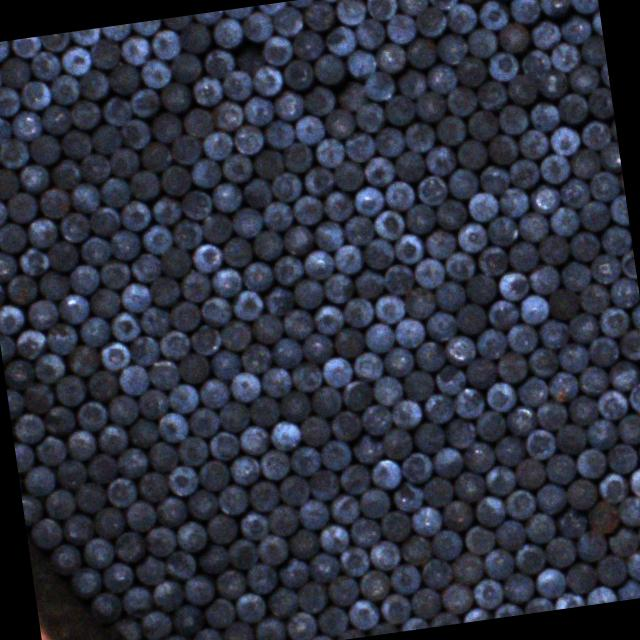tool: (34, 184, 72, 222), (19, 462, 58, 499), (294, 577, 331, 615), (266, 416, 303, 454), (147, 108, 185, 145), (116, 31, 154, 68), (310, 51, 348, 88), (46, 540, 82, 579), (25, 132, 64, 168), (270, 85, 306, 124), (96, 255, 133, 292), (525, 96, 562, 133), (87, 588, 123, 626), (470, 492, 508, 528), (348, 428, 384, 466), (187, 320, 223, 358), (2, 272, 40, 308), (36, 266, 72, 304), (108, 226, 144, 264), (208, 179, 246, 215), (320, 187, 356, 225), (463, 106, 501, 142), (605, 522, 640, 561), (67, 564, 104, 600), (27, 516, 64, 552), (499, 568, 536, 604), (562, 558, 599, 594), (448, 550, 485, 586), (572, 528, 609, 564), (553, 502, 590, 538), (603, 439, 640, 475), (228, 451, 264, 488), (94, 419, 130, 456), (83, 368, 120, 404), (260, 282, 297, 318), (567, 226, 604, 262), (421, 224, 458, 260), (46, 155, 82, 192), (402, 200, 438, 237), (401, 364, 436, 402), (88, 120, 123, 158), (250, 62, 285, 100), (494, 20, 532, 55), (215, 480, 251, 516), (232, 590, 268, 626), (530, 564, 566, 600), (492, 517, 528, 553), (523, 510, 559, 546), (296, 496, 332, 532), (32, 432, 68, 468), (240, 258, 276, 294), (546, 367, 582, 403), (494, 349, 530, 385), (380, 344, 416, 380), (280, 222, 316, 258), (46, 238, 82, 274), (56, 210, 92, 246), (3, 190, 39, 226), (68, 180, 104, 216), (98, 174, 134, 210), (280, 139, 316, 175), (168, 132, 204, 168), (8, 108, 44, 144), (260, 32, 296, 68), (210, 14, 246, 50), (465, 189, 501, 225), (497, 184, 533, 220), (414, 172, 450, 208), (444, 164, 480, 200), (360, 153, 396, 189), (422, 142, 458, 178), (578, 117, 614, 153), (402, 119, 438, 155), (412, 88, 448, 124), (534, 66, 570, 102), (392, 64, 428, 100), (279, 56, 315, 92), (315, 602, 352, 637), (51, 373, 88, 408), (13, 326, 50, 361), (411, 418, 446, 455), (533, 398, 570, 433), (587, 251, 624, 286), (24, 213, 59, 250), (546, 122, 583, 157), (188, 241, 226, 275), (444, 82, 478, 120), (154, 492, 189, 528), (80, 533, 115, 569), (173, 518, 209, 553), (204, 510, 240, 545), (163, 546, 198, 582), (169, 602, 205, 637), (201, 594, 236, 630), (376, 590, 411, 626), (408, 585, 444, 620), (440, 579, 475, 615), (388, 561, 424, 596), (480, 546, 516, 581), (366, 537, 402, 572), (428, 527, 464, 562), (285, 524, 320, 560), (438, 498, 474, 533), (482, 462, 518, 497), (460, 439, 496, 474), (491, 432, 527, 467), (327, 408, 363, 443), (165, 381, 200, 417), (331, 322, 366, 358), (65, 342, 101, 377), (218, 316, 254, 351), (45, 320, 80, 356), (108, 308, 144, 343), (291, 276, 326, 312), (566, 392, 601, 428), (463, 353, 498, 389), (472, 326, 508, 361), (504, 320, 540, 355), (362, 320, 397, 356), (370, 290, 406, 325), (401, 286, 437, 321), (495, 268, 531, 303), (556, 257, 592, 292), (381, 260, 416, 296), (598, 221, 634, 256), (67, 261, 102, 297), (220, 234, 256, 269), (170, 217, 206, 252), (229, 204, 264, 240), (258, 198, 294, 233), (290, 192, 325, 228), (158, 163, 194, 198), (189, 155, 224, 191), (230, 122, 266, 157), (262, 116, 297, 152), (158, 79, 194, 114), (189, 73, 225, 108), (178, 20, 214, 55), (312, 218, 347, 254), (371, 206, 406, 242), (434, 196, 469, 232), (529, 181, 564, 217), (566, 145, 602, 180), (454, 136, 489, 172), (342, 130, 377, 166), (433, 112, 468, 148), (496, 100, 531, 136), (566, 61, 601, 97), (302, 82, 338, 117), (558, 10, 594, 45), (382, 11, 418, 46), (586, 498, 620, 535), (113, 446, 150, 480), (17, 78, 54, 112), (201, 46, 238, 80), (436, 29, 470, 66), (320, 22, 357, 56), (562, 477, 600, 510), (357, 567, 392, 602), (347, 514, 382, 549), (389, 479, 424, 514), (306, 467, 341, 502), (398, 450, 433, 485), (318, 437, 353, 472), (246, 393, 281, 428), (73, 399, 108, 434), (227, 369, 262, 404), (271, 252, 306, 287), (535, 315, 570, 350), (576, 198, 611, 233), (78, 233, 113, 268), (270, 169, 305, 204), (372, 123, 407, 158), (333, 78, 368, 113), (373, 39, 408, 74), (528, 16, 563, 51), (290, 27, 325, 62), (90, 504, 126, 538), (122, 498, 158, 532), (184, 486, 220, 520), (266, 500, 300, 536), (98, 560, 134, 594), (131, 552, 167, 586), (195, 540, 229, 576), (316, 521, 352, 555), (378, 508, 412, 544), (452, 467, 486, 503), (541, 452, 577, 486), (276, 473, 312, 507), (367, 456, 401, 492), (554, 420, 588, 456), (42, 486, 76, 522), (164, 464, 200, 498), (196, 458, 232, 492), (380, 426, 414, 462), (174, 433, 208, 469), (124, 415, 160, 449), (276, 388, 312, 422), (104, 393, 140, 427), (21, 378, 55, 414), (310, 301, 346, 335), (300, 246, 336, 280), (442, 414, 476, 450), (472, 408, 508, 442), (515, 374, 551, 408), (597, 302, 631, 338), (547, 285, 581, 321), (577, 280, 611, 316), (432, 278, 468, 312), (475, 244, 511, 278), (117, 198, 153, 232), (16, 162, 52, 196), (210, 98, 246, 132), (221, 67, 255, 103), (48, 71, 82, 107), (168, 50, 204, 84), (232, 46, 268, 80), (57, 42, 93, 76), (270, 3, 304, 39), (558, 176, 594, 210), (475, 162, 511, 196), (506, 156, 542, 190), (390, 150, 426, 184), (486, 132, 520, 168), (516, 126, 550, 162), (311, 136, 347, 170), (474, 78, 510, 112), (404, 34, 438, 70), (88, 202, 121, 239), (59, 512, 94, 546), (246, 477, 280, 512), (274, 554, 309, 588), (512, 542, 547, 576), (542, 534, 577, 568), (398, 532, 433, 566), (502, 487, 536, 522), (357, 486, 392, 520), (144, 439, 178, 474), (298, 413, 332, 448), (341, 378, 376, 412), (135, 386, 169, 421), (196, 376, 231, 410), (208, 347, 242, 382), (268, 336, 303, 370), (298, 330, 333, 364), (31, 350, 66, 384), (128, 332, 163, 366), (250, 310, 285, 344), (359, 402, 394, 436), (585, 333, 619, 368), (454, 301, 488, 336), (486, 296, 520, 331), (606, 274, 640, 309), (412, 256, 447, 290), (128, 251, 163, 285), (16, 244, 51, 278), (221, 150, 256, 184), (252, 146, 286, 181), (107, 62, 142, 96), (138, 56, 173, 90), (28, 47, 62, 82), (149, 26, 183, 61), (241, 9, 275, 44), (323, 106, 358, 140), (532, 481, 568, 514), (186, 405, 222, 438), (307, 384, 343, 417), (98, 339, 134, 372), (24, 298, 60, 331), (557, 90, 590, 126), (143, 358, 180, 390), (112, 528, 146, 562), (254, 532, 288, 566), (152, 578, 186, 612), (213, 566, 247, 600), (245, 562, 279, 596), (420, 556, 454, 590), (306, 550, 340, 584), (408, 504, 442, 538), (420, 474, 454, 508), (430, 444, 464, 478), (104, 476, 138, 510), (78, 314, 112, 348), (168, 298, 202, 332), (198, 294, 232, 328), (230, 288, 264, 322), (321, 270, 355, 304), (88, 284, 122, 318), (120, 280, 154, 314), (178, 269, 212, 303), (452, 386, 486, 420), (576, 363, 610, 397), (526, 345, 560, 379), (413, 338, 447, 372), (566, 310, 600, 344), (392, 314, 426, 348), (424, 308, 458, 342), (464, 272, 498, 306), (351, 266, 385, 300), (536, 232, 570, 266), (456, 220, 490, 254), (546, 204, 580, 238), (140, 222, 174, 256), (128, 168, 162, 202), (138, 140, 172, 174), (59, 127, 93, 161), (118, 116, 152, 150), (242, 93, 276, 127), (67, 97, 101, 131), (352, 184, 386, 218), (538, 152, 572, 186), (331, 158, 365, 192), (382, 93, 416, 127), (506, 72, 540, 106), (454, 54, 488, 88), (518, 46, 552, 80), (266, 584, 299, 619), (337, 543, 370, 578), (337, 462, 370, 497), (41, 404, 76, 437), (116, 362, 149, 397), (433, 362, 468, 395), (181, 105, 216, 138), (423, 62, 458, 95), (472, 574, 504, 610), (596, 552, 628, 588), (318, 354, 354, 386), (352, 348, 384, 384), (106, 146, 142, 178), (200, 130, 236, 162), (78, 66, 110, 102), (0, 54, 32, 90), (361, 70, 397, 102), (467, 24, 499, 60), (143, 524, 176, 558), (236, 508, 269, 542), (225, 536, 258, 570), (182, 573, 215, 607), (512, 456, 546, 489), (574, 446, 607, 480), (584, 417, 617, 451), (54, 458, 87, 492), (207, 429, 240, 463), (237, 423, 270, 457), (217, 398, 250, 432), (11, 411, 44, 445), (177, 350, 210, 384), (333, 242, 366, 276), (504, 403, 537, 437), (594, 388, 628, 421), (484, 380, 518, 413), (607, 357, 640, 391), (371, 374, 404, 408), (506, 238, 539, 272), (362, 236, 395, 270), (486, 214, 520, 247), (516, 210, 550, 243), (159, 245, 193, 278), (150, 194, 183, 228), (241, 176, 274, 210), (40, 103, 74, 136), (129, 85, 162, 119), (382, 179, 416, 212), (294, 112, 327, 146), (486, 49, 520, 82), (548, 40, 582, 73), (352, 17, 385, 51), (414, 5, 448, 38), (444, 1, 478, 34), (149, 273, 181, 308), (79, 151, 111, 186), (99, 94, 134, 126), (344, 212, 376, 247), (301, 0, 336, 32), (475, 0, 511, 31), (347, 597, 380, 630), (595, 471, 628, 504), (73, 481, 106, 514), (138, 304, 171, 337), (56, 291, 89, 324), (180, 188, 213, 221), (89, 37, 122, 70), (302, 165, 335, 198), (345, 46, 378, 79), (138, 608, 172, 640), (328, 574, 360, 608), (462, 522, 494, 556), (328, 492, 362, 524), (288, 444, 322, 476), (84, 452, 118, 484), (65, 427, 97, 461), (289, 360, 323, 392), (238, 342, 272, 374), (2, 356, 34, 390), (158, 328, 192, 360), (282, 306, 314, 340), (209, 266, 243, 298), (422, 392, 456, 424), (342, 296, 376, 328), (526, 262, 560, 294), (252, 228, 284, 262), (200, 212, 234, 244), (121, 584, 154, 616), (524, 426, 556, 459), (135, 470, 168, 502), (259, 447, 291, 480), (156, 411, 188, 444), (259, 366, 292, 398), (444, 249, 476, 282), (589, 169, 621, 202), (558, 339, 588, 374), (0, 137, 30, 172), (252, 613, 290, 640), (390, 397, 422, 429), (444, 334, 476, 366), (518, 292, 550, 324), (392, 232, 424, 264), (354, 102, 386, 134), (285, 609, 318, 640), (0, 219, 29, 254), (106, 614, 143, 640), (577, 34, 607, 66), (586, 86, 614, 120), (332, 0, 368, 26), (615, 326, 640, 362), (507, 0, 543, 25), (615, 493, 640, 528), (614, 412, 640, 445), (0, 301, 26, 334), (596, 141, 622, 174), (582, 584, 618, 606), (221, 618, 256, 640), (22, 492, 44, 526), (363, 0, 397, 22), (10, 36, 42, 59), (0, 83, 21, 118), (14, 439, 36, 472), (608, 194, 630, 226), (0, 248, 20, 283), (0, 165, 20, 200), (426, 609, 462, 628), (520, 594, 554, 614), (552, 589, 584, 610), (40, 32, 70, 54), (614, 576, 640, 601), (68, 28, 102, 47), (490, 600, 523, 619), (7, 386, 26, 419), (624, 546, 640, 583), (0, 328, 17, 362), (101, 24, 133, 42), (393, 0, 428, 16), (620, 248, 637, 280), (160, 15, 194, 31), (462, 605, 492, 623), (538, 0, 571, 16), (193, 10, 224, 27), (568, 0, 600, 16), (398, 615, 428, 632), (131, 19, 161, 36), (626, 463, 640, 499), (190, 626, 224, 640), (627, 381, 640, 415), (0, 114, 12, 148), (425, 0, 461, 11), (0, 197, 8, 231), (160, 632, 193, 640), (0, 40, 10, 65)
